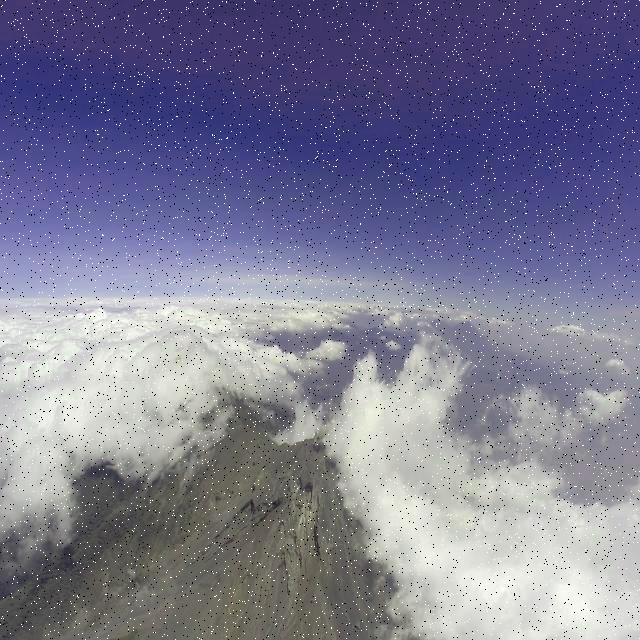Plume: (312, 424, 326, 449)
Summit: (248, 433, 358, 585)
